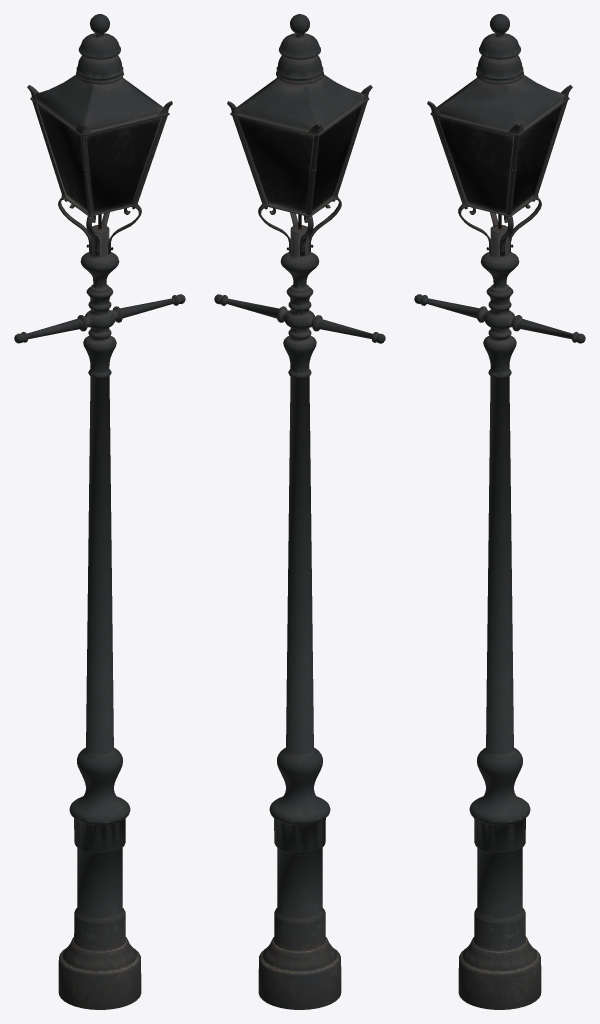
File: prop-lamp-5ae7e5c0.glb
The picture shows the model from 3 angles, left to right: view 1: azimuth 30°, elevation 25°; view 2: azimuth 150°, elevation 25°; view 3: azimuth 330°, elevation 25°; orthographic projection.
Visible parts, largest first — view 1: street_lamp_01; view 2: street_lamp_01; view 3: street_lamp_01.
Boxes of the visible parts, x1=… form: street_lamp_01: x1=14, y1=14, x2=185, y2=1009; street_lamp_01: x1=214, y1=14, x2=385, y2=1009; street_lamp_01: x1=414, y1=14, x2=585, y2=1009.
Bounding box in the file's own units: 0.704 × 3.87 × 0.3863.
Materials: 2 (2 with a texture image).
